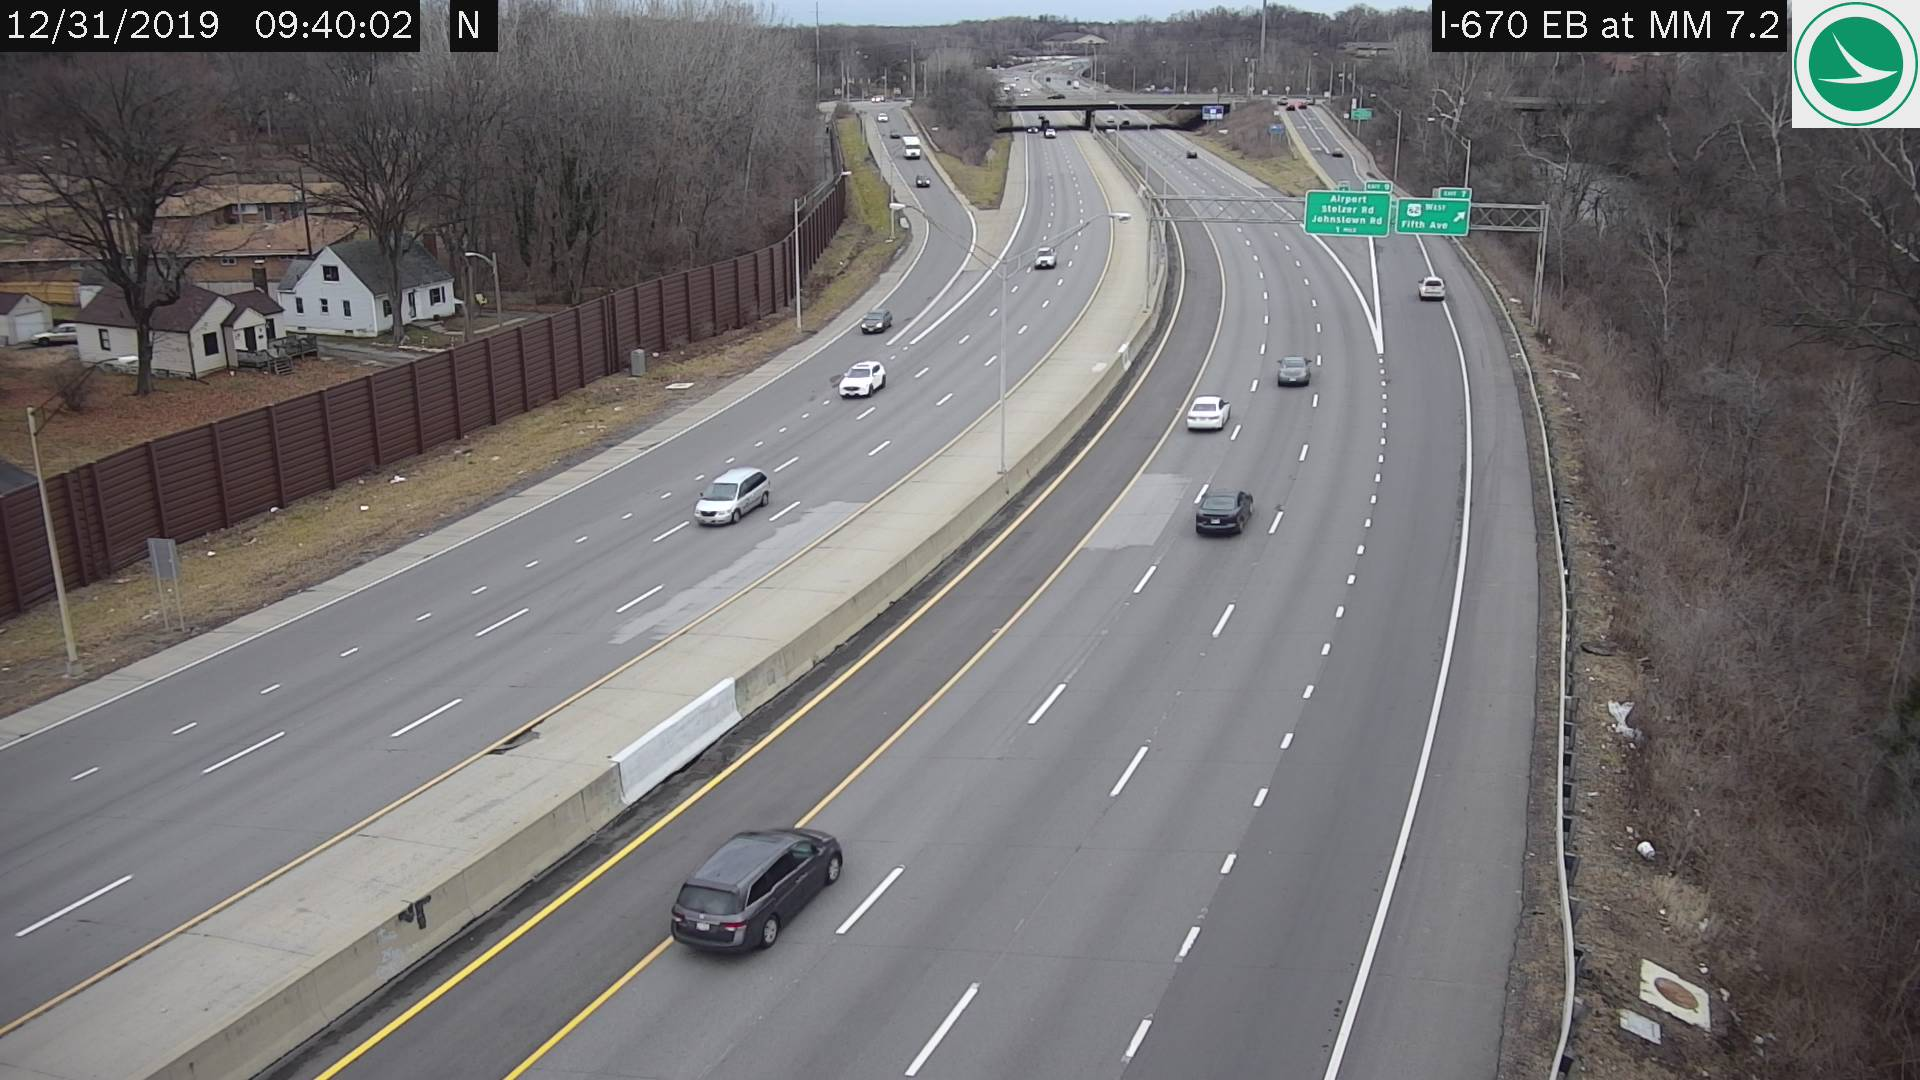car: (670, 828, 843, 956), (694, 468, 766, 524), (1193, 488, 1254, 535), (837, 360, 886, 396), (1185, 396, 1226, 429), (1274, 356, 1309, 384), (1418, 272, 1447, 301), (862, 309, 890, 332), (1034, 244, 1054, 268)
